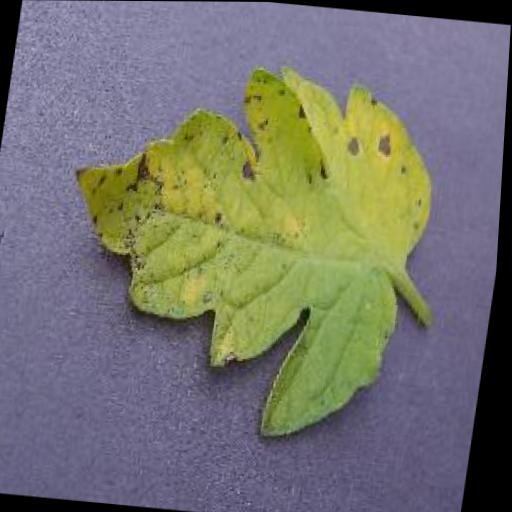Septoria: (47, 49, 451, 449)
